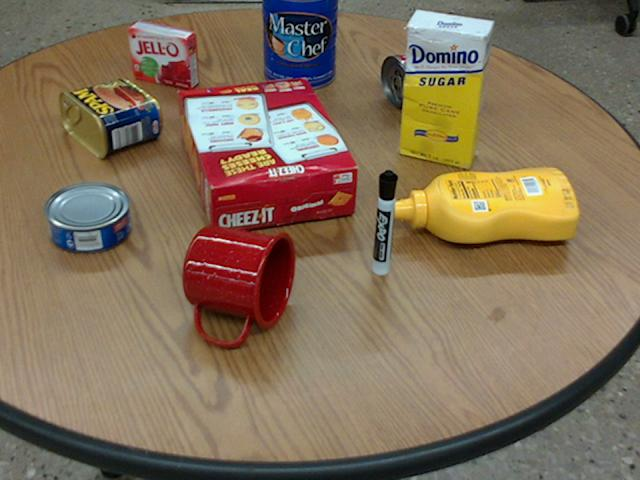cracker_box: (176, 77, 358, 234)
gelatin_box: (128, 20, 198, 88)
large_marker: (372, 169, 397, 274)
master_chef_can: (263, 0, 337, 88)
mug: (180, 226, 293, 344)
mustard_bottle: (392, 167, 577, 242)
potted_meat_can: (58, 78, 160, 156)
sugar_box: (400, 10, 492, 168)
tomato_soup_can: (380, 41, 469, 105)
tuna_fish_can: (43, 181, 129, 251)
